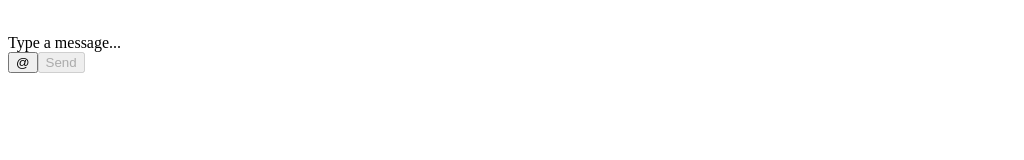
Test: composer toolbar › renders a trigger button labeled from the trigger definition that opens the list
Press the mouse on the button named "Mention someone" at [23, 62], box [8,52,38,73]
Click the button named "Mention someone" at [23, 62], box [8,52,38,73]
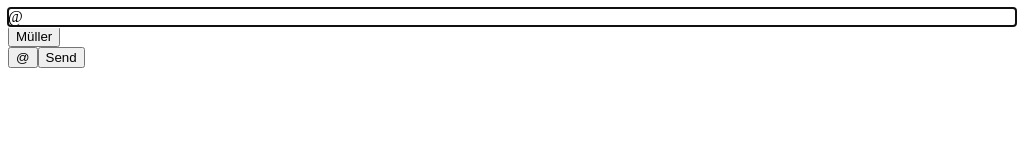
Now the field reads "@", box [8,8,23,25]
Now the option "Müller" is shown, box [8,26,60,47]
